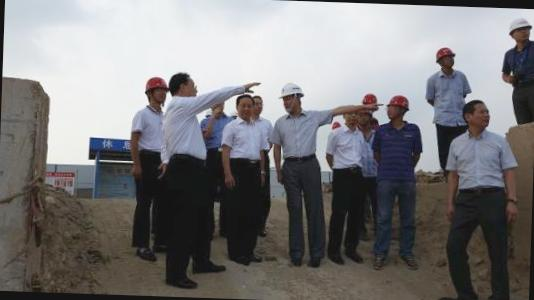no_helmet: (460, 96, 493, 132), (168, 68, 200, 104), (234, 92, 254, 118), (252, 94, 265, 120)
